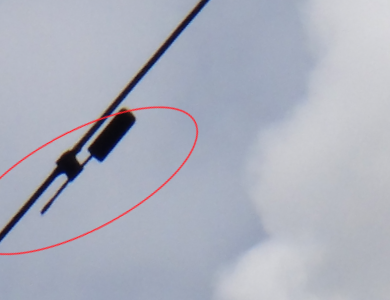damper_defect: (28, 106, 138, 219)
